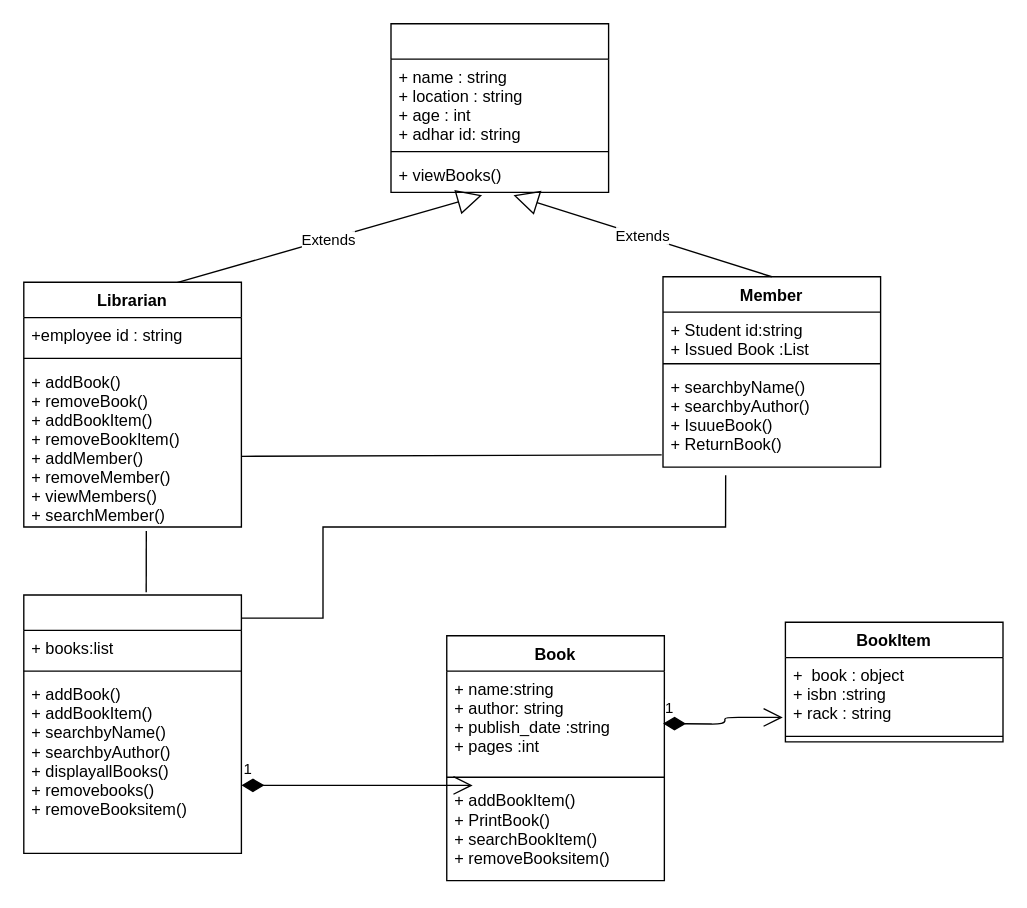
This 1027x908 diagram has some shape labels left out. The shapes that lost their labels are listed below. From the top down, each one's box as (x1, y1, x2, y2) in pixels, then its label:
(390, 22, 609, 192): User
(22, 594, 241, 853): Catalog
